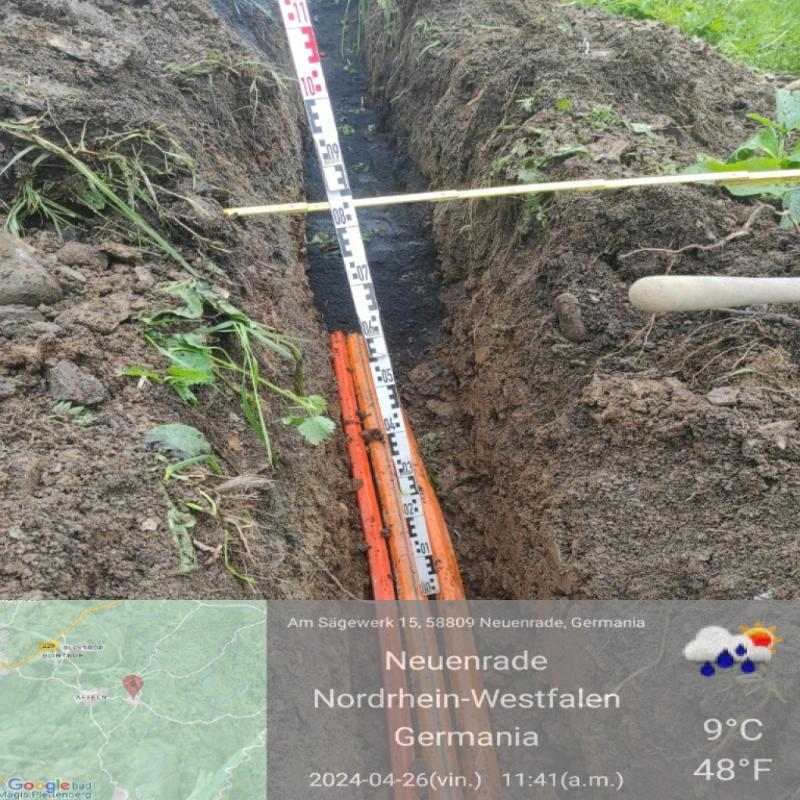Orang-Speednetrohrchen: (332, 334, 421, 600), (406, 428, 465, 600)
